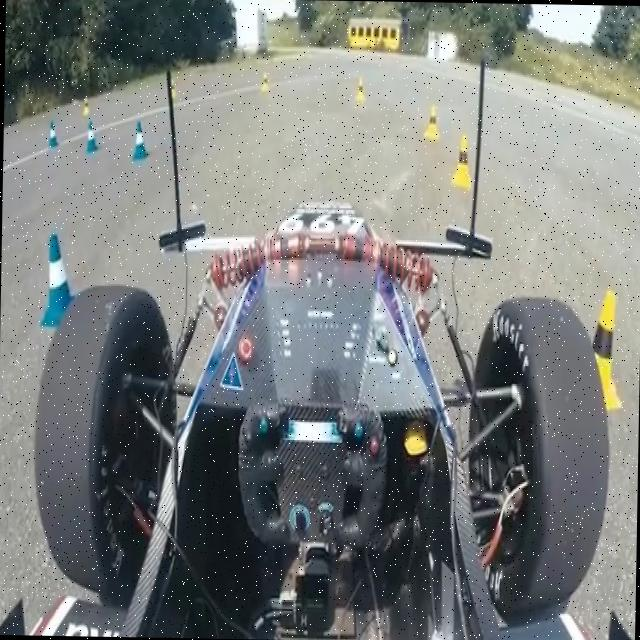blue_cone: (31, 224, 84, 330), (124, 116, 156, 164), (80, 120, 103, 158), (42, 117, 62, 147)
yellow_cone: (575, 282, 624, 410), (453, 127, 477, 191), (422, 92, 443, 144), (354, 69, 368, 102), (260, 65, 274, 94)
